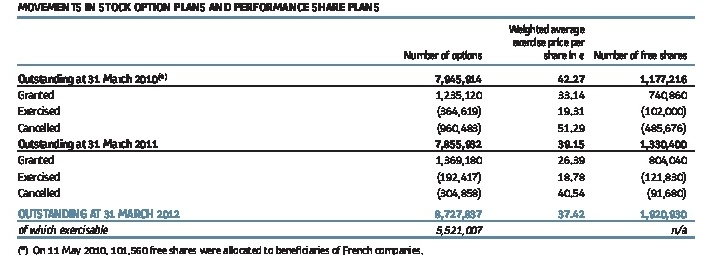table: (0, 0, 709, 255)
